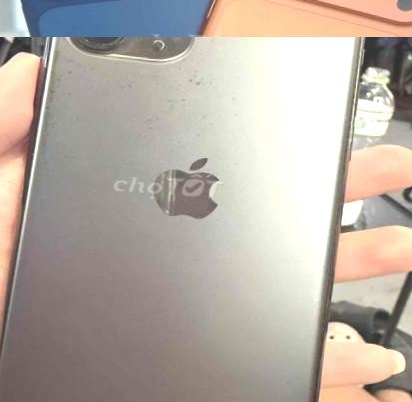scratch: (34, 37, 309, 180)
